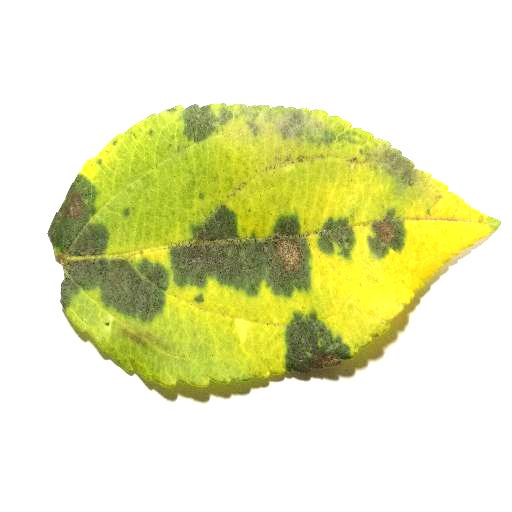Brown_Spot: (58, 183, 396, 380)
